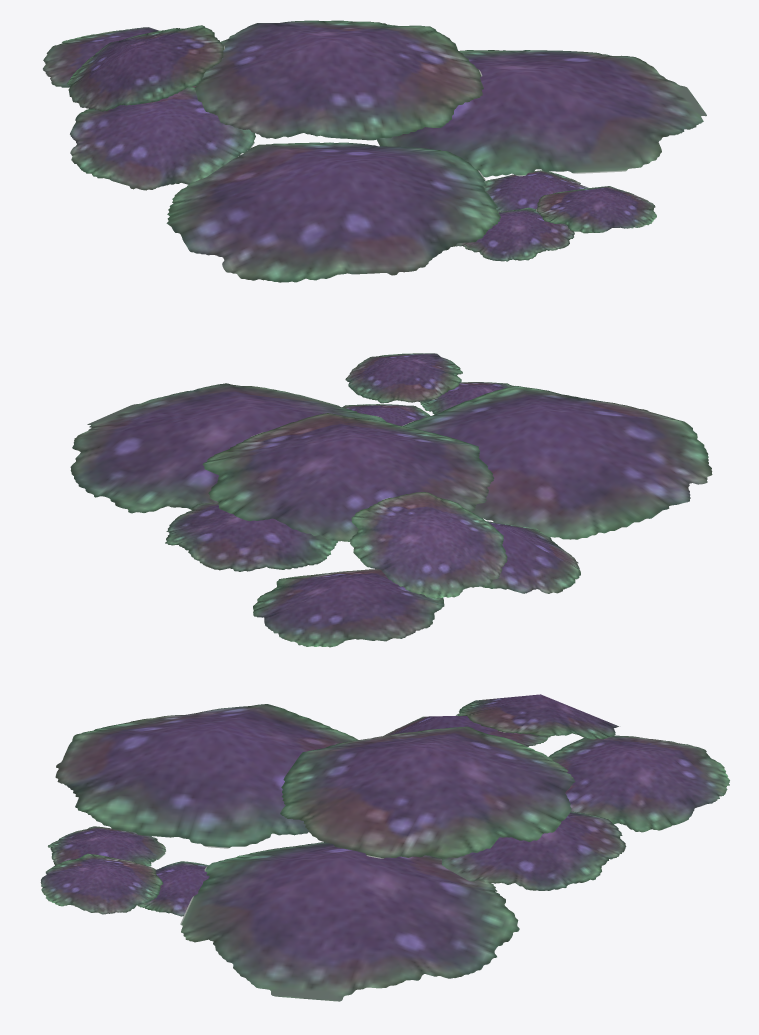
Rendered from SJHD_plant_02.FBX.
3 renders of one model, top to bottom at view 1: azimuth 30°, elevation 25°; view 2: azimuth 150°, elevation 25°; view 3: azimuth 270°, elevation 25°, orthographic. The views are drawn at different scales.
Parts seen in each view (by area): view 1: SJHD_plant_02; view 2: SJHD_plant_02; view 3: SJHD_plant_02.
Part boxes in pixels (box(x1,y1,x2,y2)): SJHD_plant_02: box(43, 20, 706, 282); SJHD_plant_02: box(70, 353, 712, 647); SJHD_plant_02: box(40, 694, 729, 1001).
Size of the model in its own units: 158 by 23.47 by 155.
